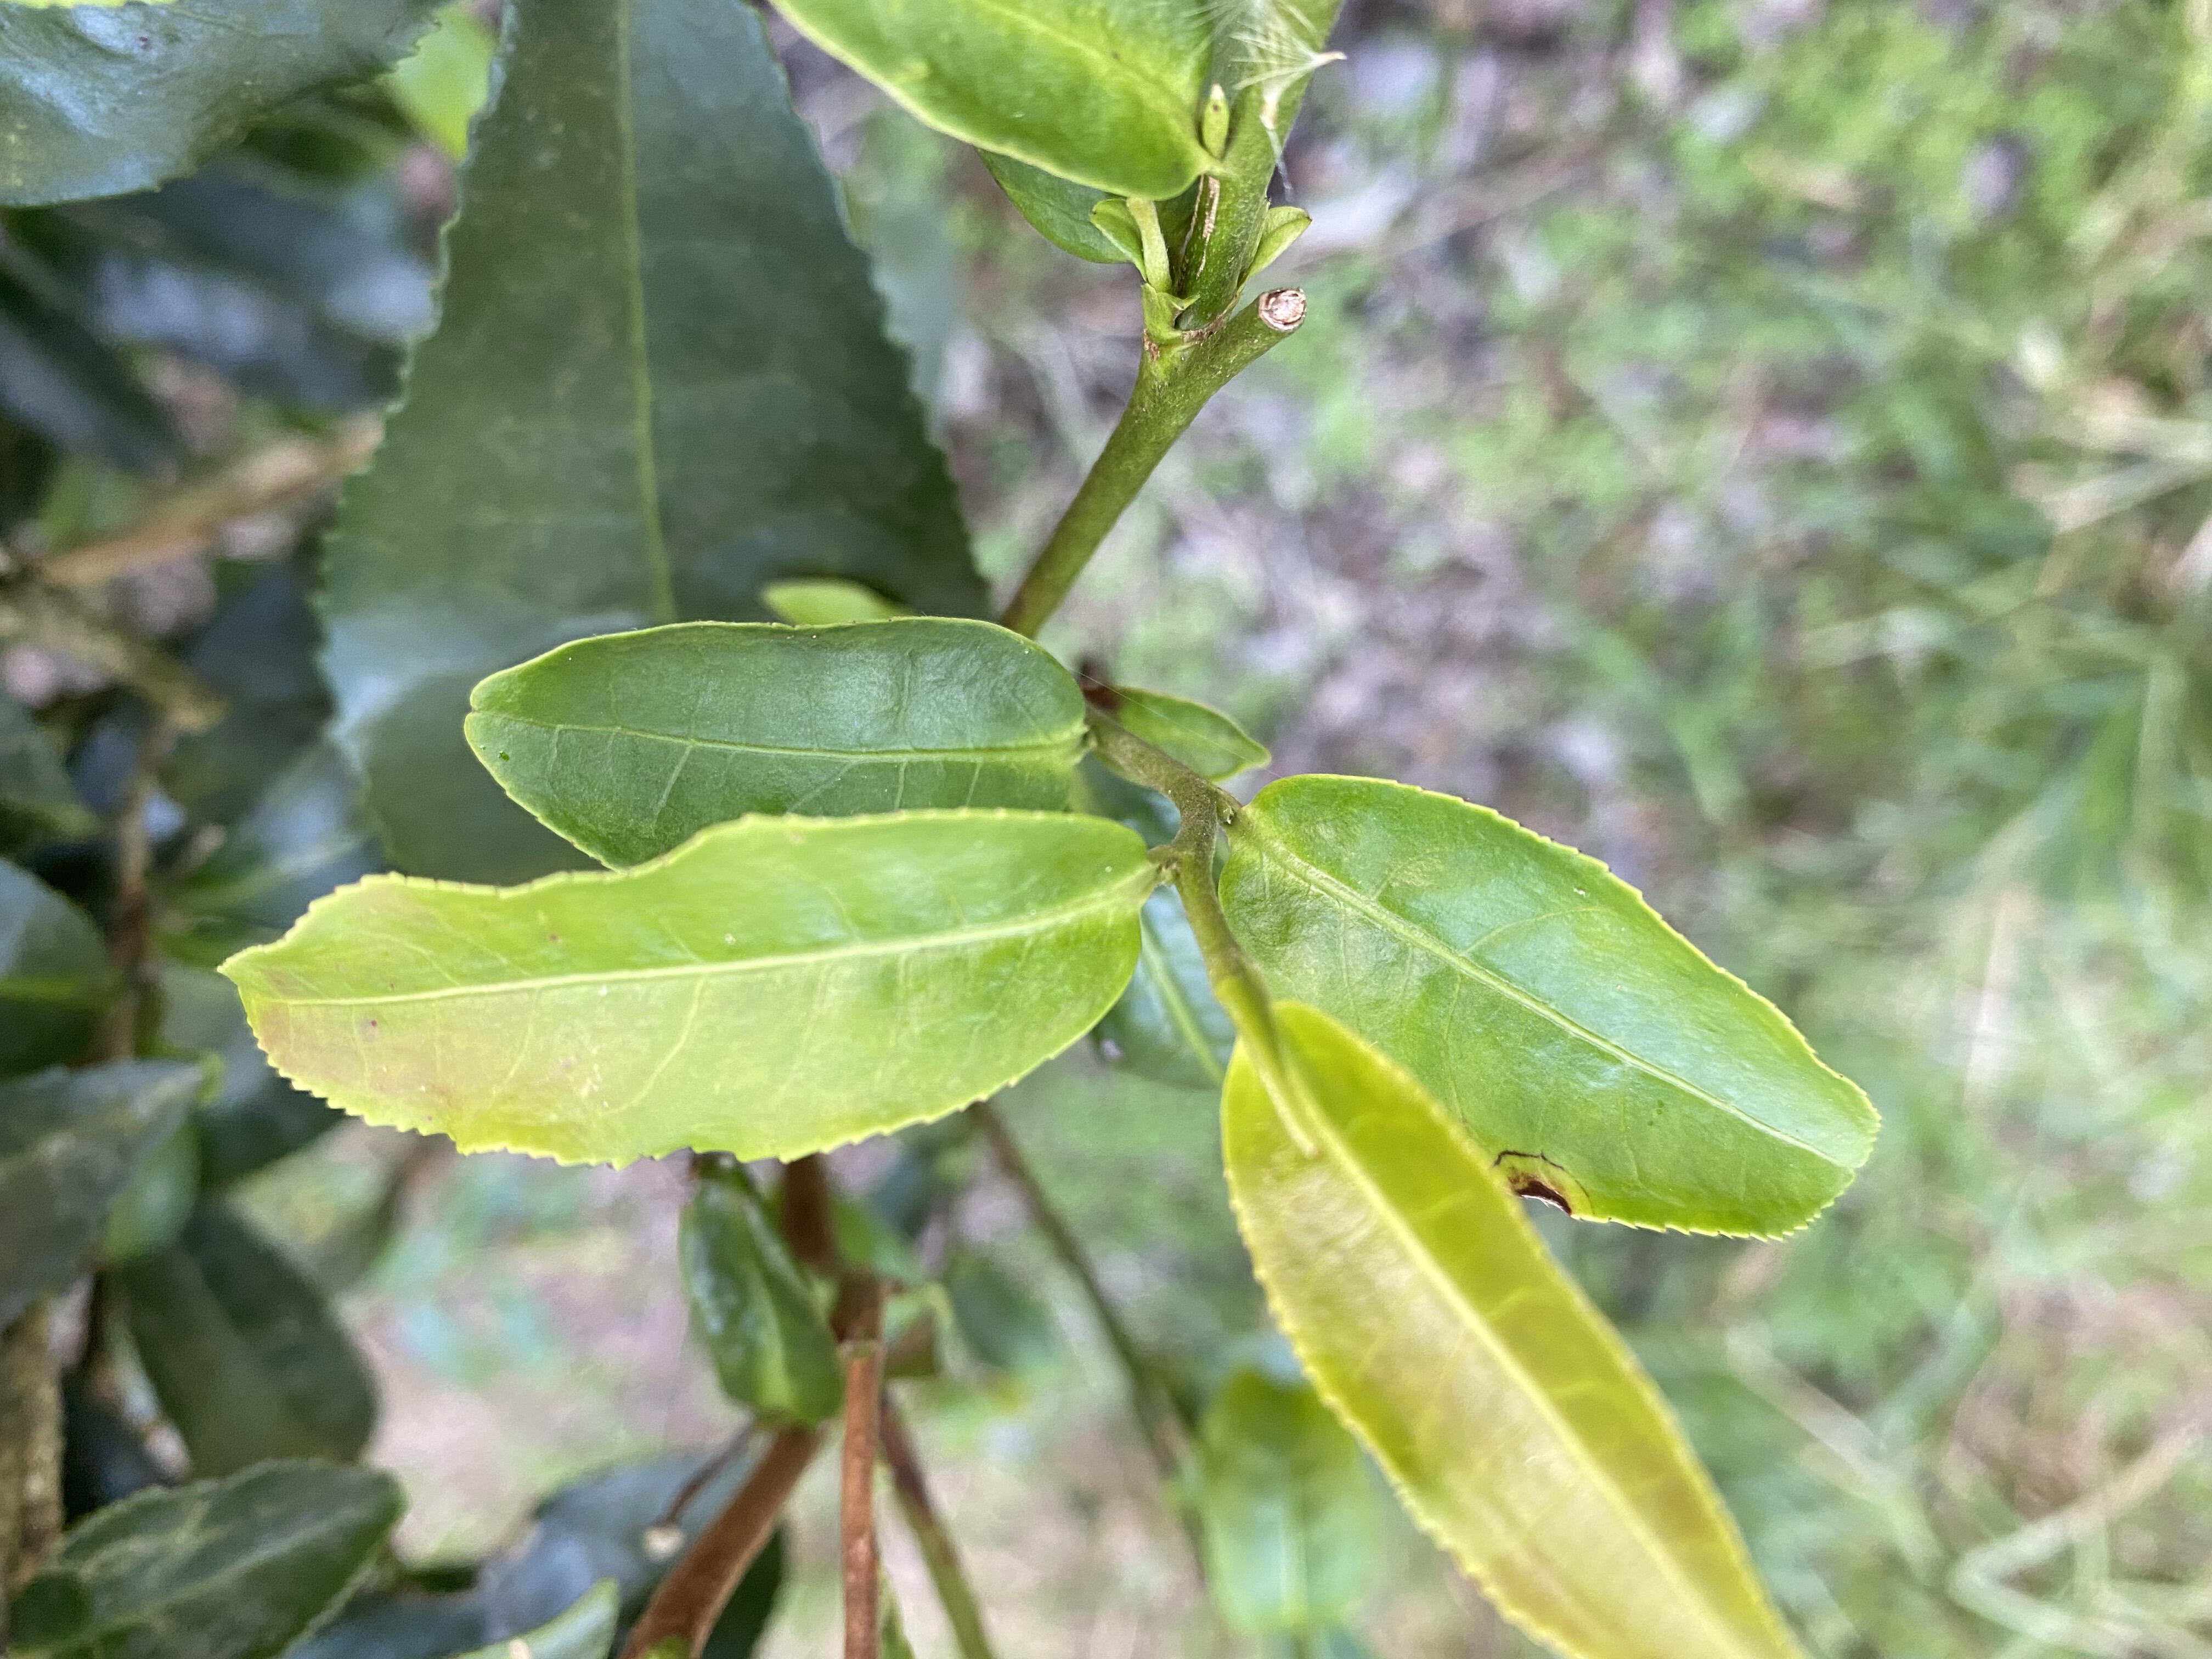healthy: (212, 810, 1153, 1171), (465, 613, 1085, 871)
tanju_high: (1216, 769, 1883, 1246)
tanju_low: (1212, 992, 1810, 1654)
